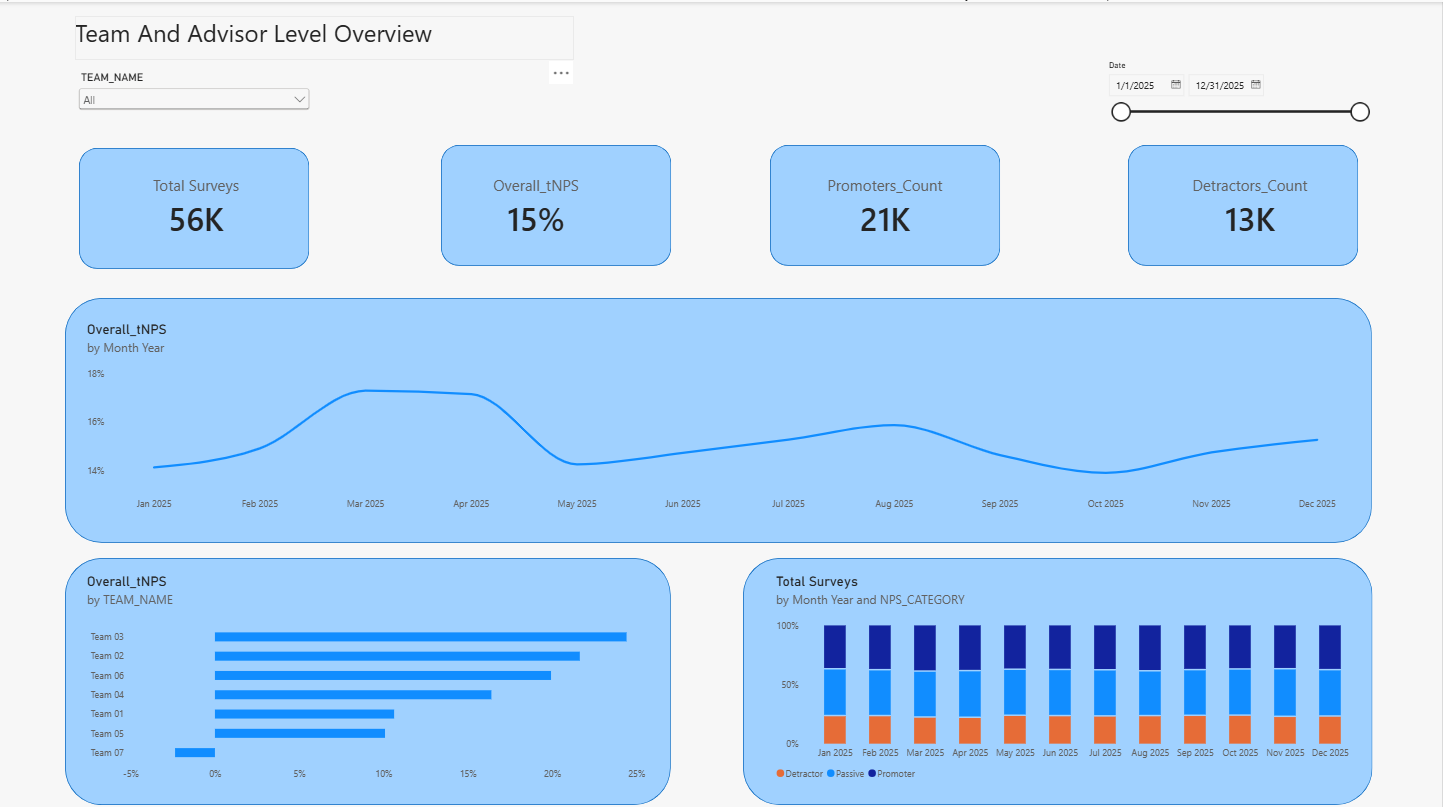

Layout of this report page (visuals, bound fields, positions):
{"tool":"powerbi","page":{"name":"Customer Experience","canvas":[1920,1080],"ordinal":2},"visuals":[{"type":"shape","box":[1026.6,190.8,306.2,160.7],"z":0},{"type":"shape","box":[89.3,738.9,805.6,328.6],"z":1000},{"type":"shape","box":[107.5,193.8,306.2,160.7],"z":2000},{"type":"shape","box":[589,190.8,306.2,160.7],"z":3000},{"type":"shape","box":[1503.6,190.8,306.2,160.7],"z":5000},{"type":"shape","box":[89.3,393.7,1738.3,325.6],"z":6000},{"type":"shape","box":[990.3,738.9,837.4,328.6],"z":7000},{"type":"cardVisual","fields":{"Data":["MART_ADVISOR_PERFORMANCE.Total Surveys"]},"box":[102.1,197,322.4,154.7],"z":8000},{"type":"cardVisual","fields":{"Data":["MART_ADVISOR_PERFORMANCE.Overall_tNPS"]},"box":[554.4,197,322.4,154.7],"z":9000},{"type":"cardVisual","fields":{"Data":["MART_ADVISOR_PERFORMANCE.Detractors_Count"]},"box":[1504.2,197,322.4,154.7],"z":10000},{"type":"cardVisual","fields":{"Data":["MART_ADVISOR_PERFORMANCE.Promoters_Count"]},"box":[1018.4,197,322.4,154.7],"z":11000},{"type":"hundredPercentStackedColumnChart","fields":{"Category":["Dim_Date.Month Year"],"Series":["MART_NPS_PERFORMANCE.NPS_CATEGORY"],"Y":["MART_ADVISOR_PERFORMANCE.Total Surveys"]},"box":[1018.4,745.5,808.3,309.3],"z":12000},{"type":"lineChart","fields":{"Category":["Dim_Date.Month Year"],"Y":["MART_ADVISOR_PERFORMANCE.Overall_tNPS"]},"box":[102.1,411.4,1724.5,286],"z":13000},{"type":"clusteredBarChart","fields":{"Category":["MART_ADVISOR_PERFORMANCE.TEAM_NAME"],"Y":["MART_ADVISOR_PERFORMANCE.Overall_tNPS"]},"box":[102.1,745.5,774.7,309.3],"z":14000},{"type":"slicer","fields":{"Values":["Dim_Date.Date"]},"box":[1469.2,77.3,357.4,94.8],"z":15000},{"type":"slicer","fields":{"Values":["MART_ADVISOR_PERFORMANCE.TEAM_NAME"]},"box":[102.1,91.9,316.6,52.5],"z":16000},{"type":"textbox","box":[102.1,19,663.8,58.4],"z":17000}]}

Visuals, with their boxes in screenshot pixels (x1, y1, x2, y2), scaled from the page's 1920x1080 canvas onto the 1443x807 screenshot:
shape: <region>772, 143, 1002, 263</region>
shape: <region>67, 552, 673, 798</region>
shape: <region>81, 145, 311, 265</region>
shape: <region>443, 143, 673, 263</region>
shape: <region>1130, 143, 1360, 263</region>
shape: <region>67, 294, 1374, 537</region>
shape: <region>744, 552, 1374, 798</region>
cardVisual - MART_ADVISOR_PERFORMANCE.Total Surveys: <region>77, 147, 319, 263</region>
cardVisual - MART_ADVISOR_PERFORMANCE.Overall_tNPS: <region>417, 147, 659, 263</region>
cardVisual - MART_ADVISOR_PERFORMANCE.Detractors_Count: <region>1131, 147, 1373, 263</region>
cardVisual - MART_ADVISOR_PERFORMANCE.Promoters_Count: <region>765, 147, 1008, 263</region>
hundredPercentStackedColumnChart - Dim_Date.Month Year x MART_NPS_PERFORMANCE.NPS_CATEGORY: <region>765, 557, 1373, 788</region>
lineChart - Dim_Date.Month Year x MART_ADVISOR_PERFORMANCE.Overall_tNPS: <region>77, 307, 1373, 521</region>
clusteredBarChart - MART_ADVISOR_PERFORMANCE.TEAM_NAME x MART_ADVISOR_PERFORMANCE.Overall_tNPS: <region>77, 557, 659, 788</region>
slicer - Dim_Date.Date: <region>1104, 58, 1373, 129</region>
slicer - MART_ADVISOR_PERFORMANCE.TEAM_NAME: <region>77, 69, 315, 108</region>
textbox: <region>77, 14, 576, 58</region>
